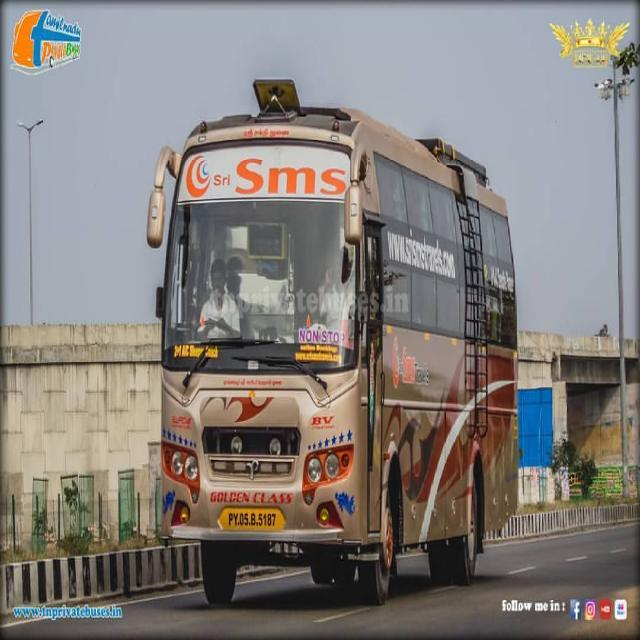Bus: (145, 78, 520, 606)
